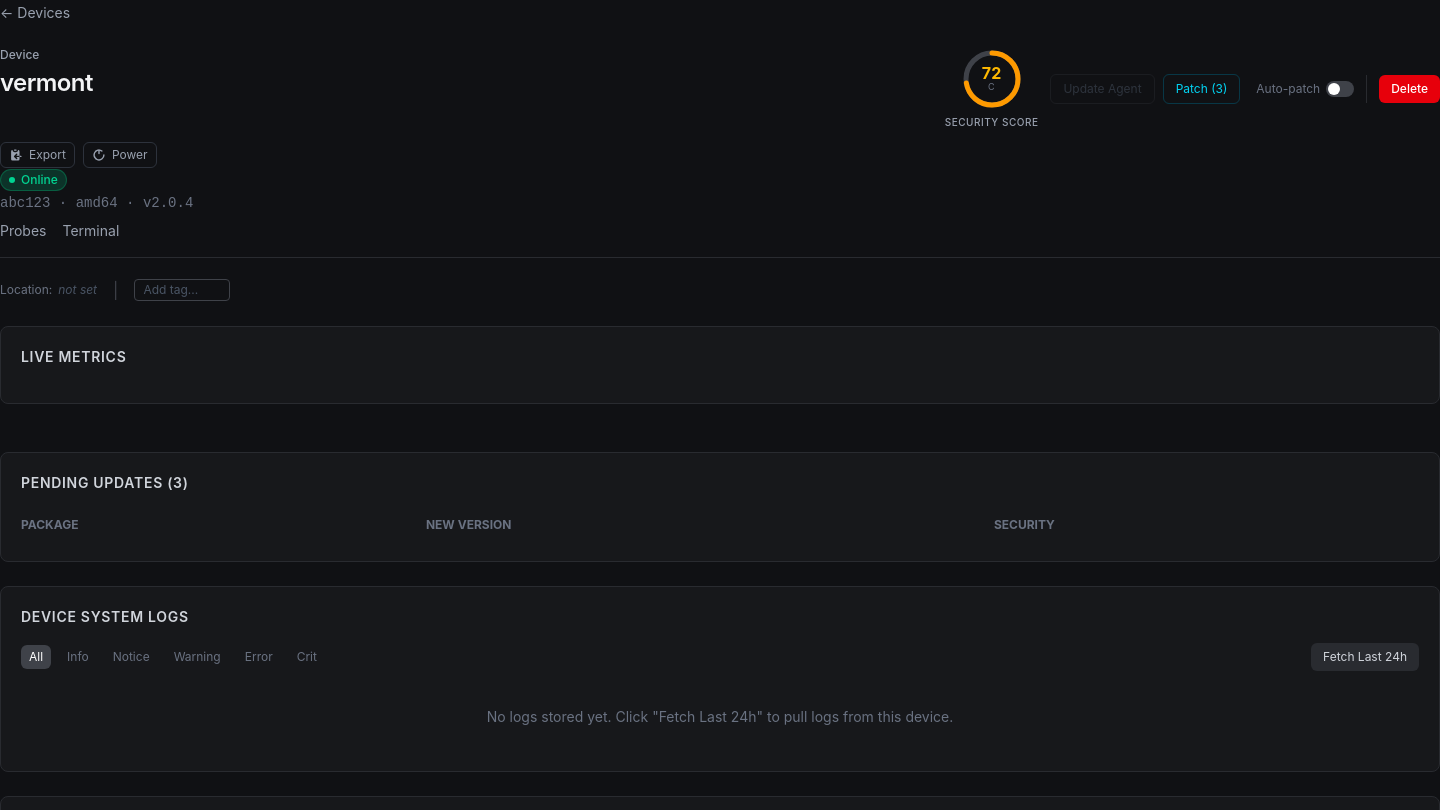
[PATCH-FLOW-001 AC-013] an unticked confirm › shows a server rejection inline and keeps the dialog open for a retry
This screenshot has width=1440, height=810.
Expected: the heading "vermont" is shown, left=0, top=68, right=93, bottom=97
Click the button "Patch (3)".
click(1201, 88)  # box left=1163, top=74, right=1240, bottom=104
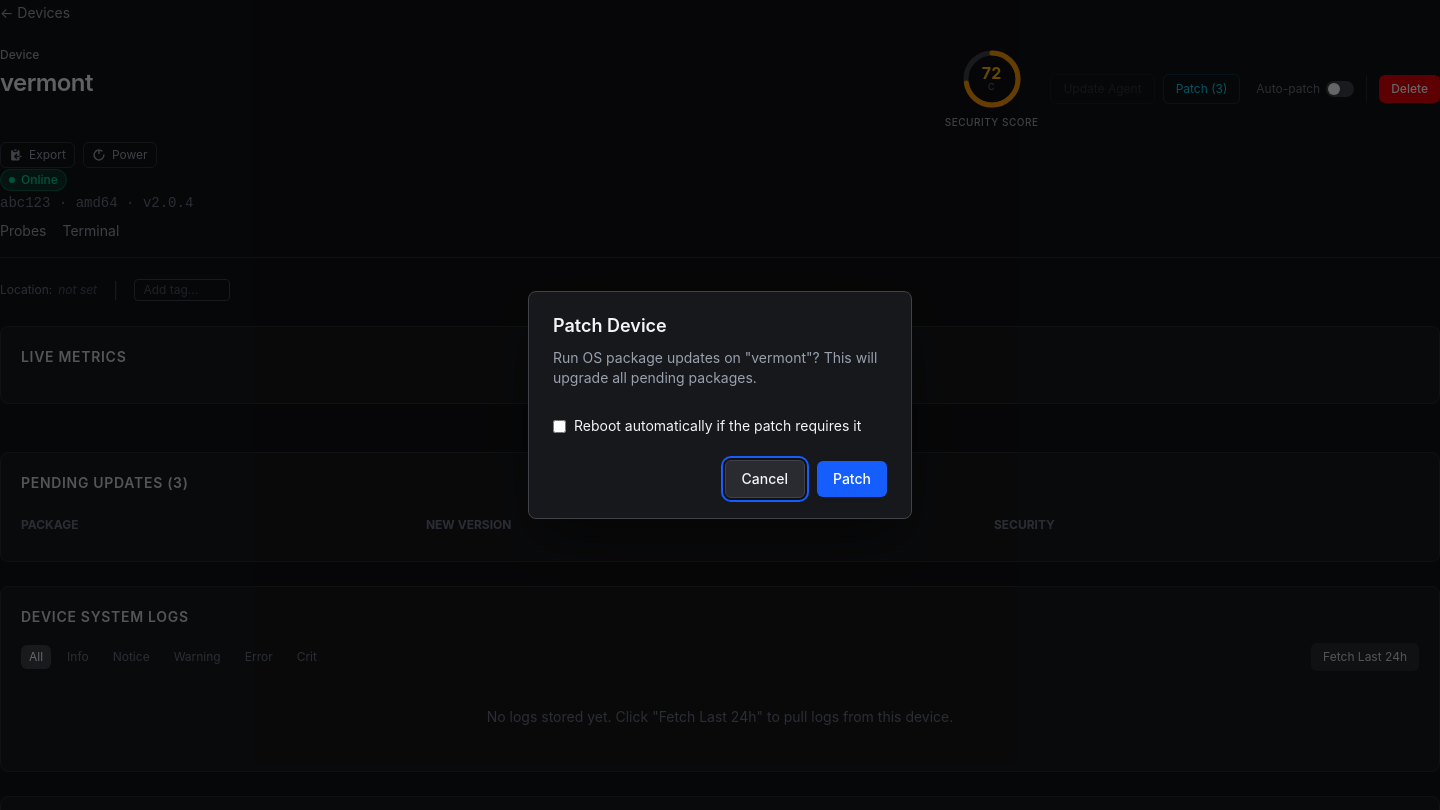
Click the checkbox labelled "Reboot automatically if the patch requires it".
click(560, 426)  # box left=553, top=420, right=566, bottom=432
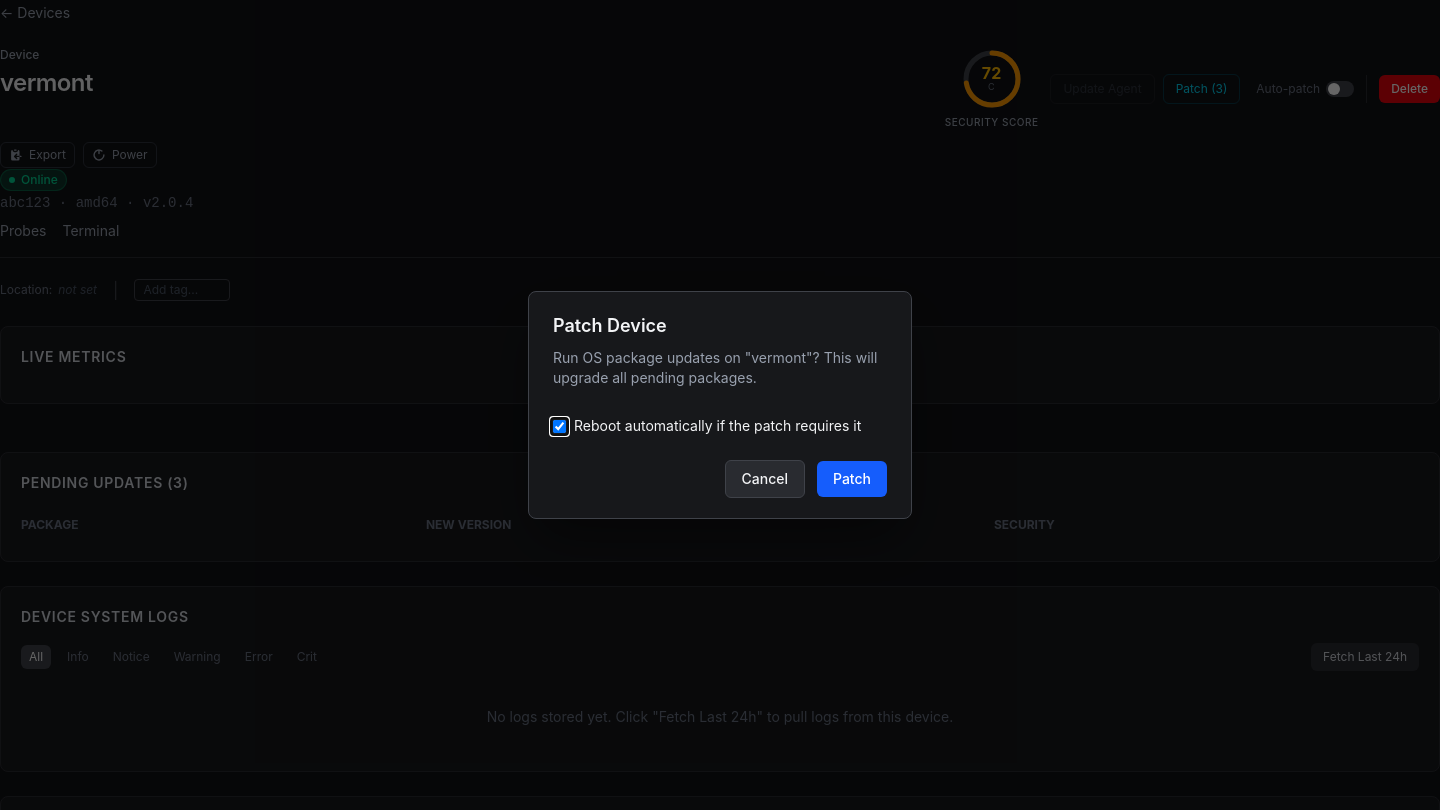
Click the button "Patch".
click(852, 479)  # box left=817, top=461, right=887, bottom=497
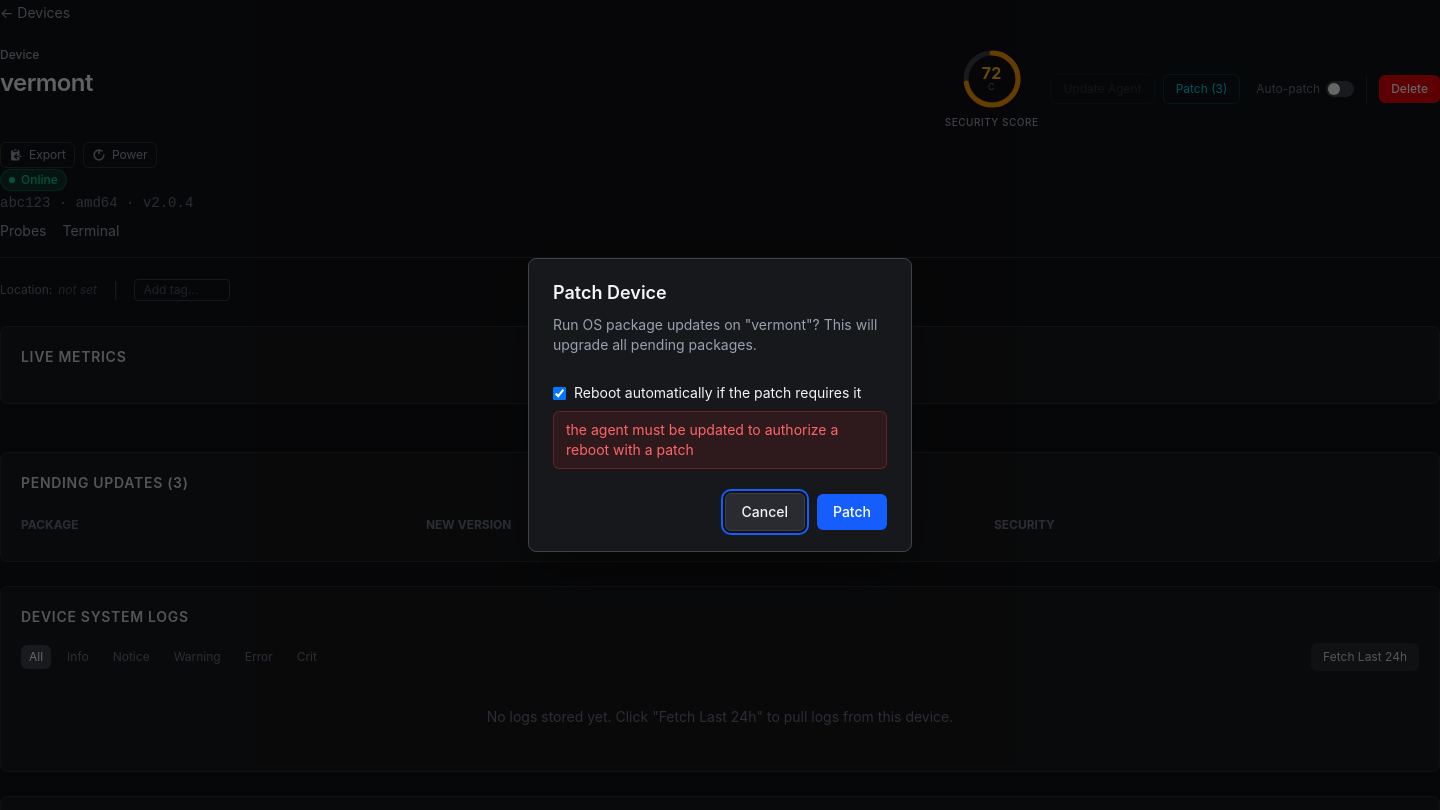
Expected: the message reads "the agent must be updated to authorize a reboot with a patch", left=566, top=421, right=838, bottom=458
